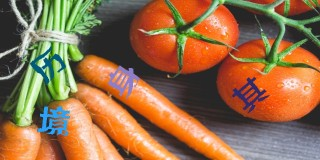其: (233, 77, 270, 112)
历: (29, 47, 66, 84)
境: (37, 105, 70, 135)
身: (108, 65, 139, 96)
